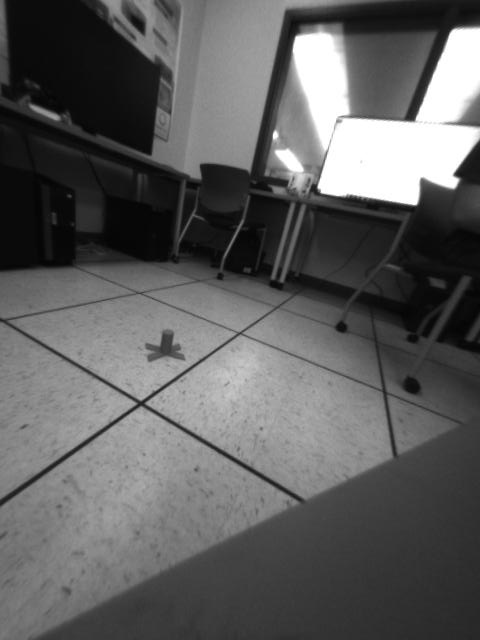X: (145, 329, 184, 363)
